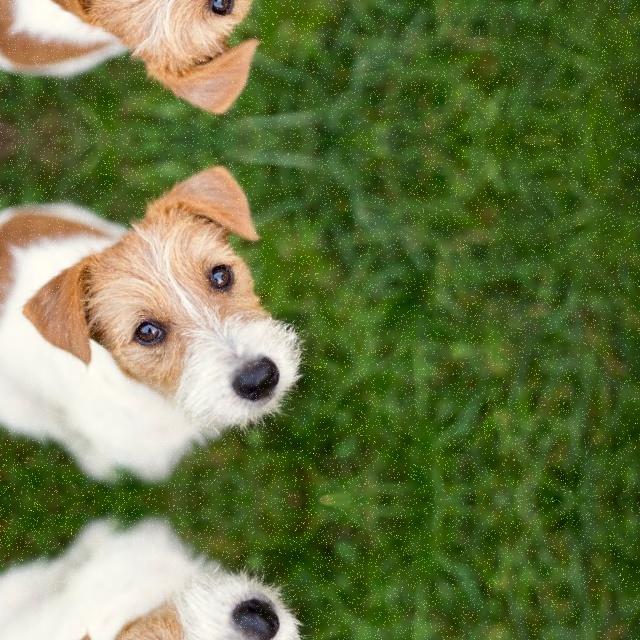dog: (0, 144, 302, 481), (0, 0, 301, 136), (0, 519, 301, 640)
